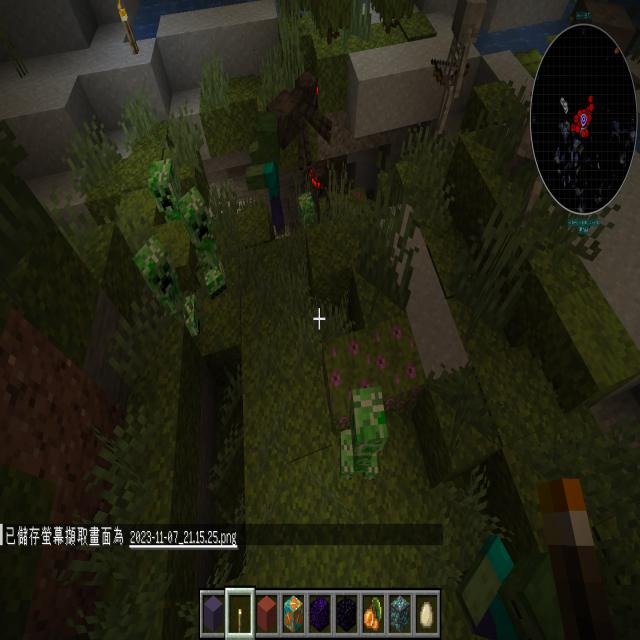Creeper: (123, 229, 204, 349), (173, 180, 235, 306), (335, 378, 391, 491), (141, 154, 185, 227), (302, 150, 354, 203), (294, 188, 320, 232)
Skeleton: (429, 0, 494, 150)
Spider: (263, 58, 338, 178)
Zombie: (454, 517, 583, 640), (239, 104, 290, 245)
